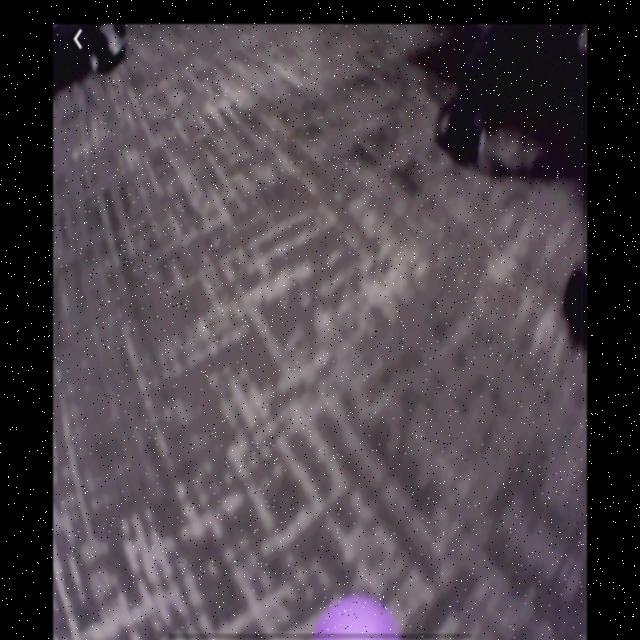ball: (312, 594, 403, 639)
